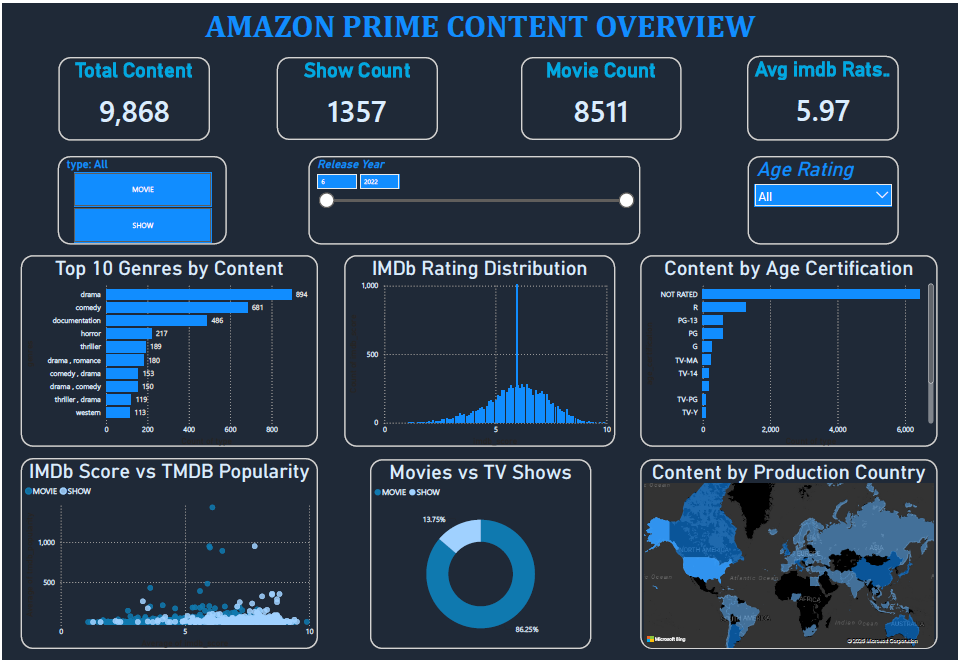

What the dashboard file says about the page in this screenshot:
{"tool":"powerbi","page":{"name":"Content Overview","canvas":[1600,1100],"ordinal":0},"visuals":[{"type":"textbox","box":[33.3,0,1535.6,88.9],"z":0},{"type":"cardVisual","title":"Movie Count","fields":{"Data":["CountNonNull(Tittles.type)"]},"box":[868.8,89.8,269.4,139.2],"z":1000},{"type":"cardVisual","title":"Total Content ","fields":{"Data":["Tittles.Total-Content"]},"box":[94,90,254,140],"z":2000},{"type":"cardVisual","title":"Show Count","fields":{"Data":["CountNonNull(Tittles.type)"]},"box":[460.2,89.8,269.4,139.2],"z":3000},{"type":"cardVisual","title":"Avg imdb Rats..","fields":{"Data":["Avg(Tittles.imdb_score)"]},"box":[1248,88,254,142],"z":4000},{"type":"barChart","title":"Top 10 Genres by Content","fields":{"Category":["Tittles.genres"],"Y":["CountNonNull(Tittles.type)"]},"box":[31.1,422.2,497.9,321.3],"z":5000},{"type":"donutChart","title":"Movies vs TV Shows","fields":{"Category":["Tittles.type"],"Y":["CountNonNull(Tittles.type)"]},"box":[615.6,764.4,371.1,317.8],"z":6000},{"type":"barChart","title":"Content by Age Certification","fields":{"Category":["Tittles.age_certification"],"Y":["CountNonNull(Tittles.type)"]},"box":[1068.9,422.2,498,321],"z":7000},{"type":"scatterChart","title":"IMDb Score vs TMDB Popularity","fields":{"Category":["Tittles.title"],"Series":["Tittles.type"],"X":["Avg(Tittles.imdb_score)"],"Y":["Tittles.tmdb_popularity"]},"box":[31.1,762.2,497.8,320],"z":8000},{"type":"lineClusteredColumnComboChart","title":"IMDb Rating Distribution","fields":{"Category":["Tittles.imdb_score"],"Y":["CountNonNull(Tittles.imdb_score)"]},"box":[573.3,422.2,453.6,320.6],"z":9000},{"type":"filledMap","title":"Content by Production Country","fields":{"Category":["Tittles.production_countries"]},"box":[1068.9,764.4,497.8,317.8],"z":10000},{"type":"slicer","fields":{"Values":["Tittles.type"]},"box":[93.3,255.6,282.2,148.9],"z":11000},{"type":"slicer","fields":{"Values":["Tittles.release_year"]},"box":[513.3,255.6,555.6,148.9],"z":12000},{"type":"slicer","fields":{"Values":["Tittles.age_certification"]},"box":[1248.9,255.6,253.3,148.9],"z":13000}]}

Visuals, with their boxes in screenshot pixels (x1, y1, x2, y2), scaled from the page's 1600x1100 canvas onto the 960x661 screenshot:
textbox: box(20, 0, 941, 53)
"Movie Count" cardVisual: box(521, 54, 683, 138)
"Total Content " cardVisual: box(56, 54, 209, 138)
"Show Count" cardVisual: box(276, 54, 438, 138)
"Avg imdb Rats.." cardVisual: box(749, 53, 901, 138)
"Top 10 Genres by Content" barChart: box(19, 254, 317, 447)
"Movies vs TV Shows" donutChart: box(369, 459, 592, 650)
"Content by Age Certification" barChart: box(641, 254, 940, 447)
"IMDb Score vs TMDB Popularity" scatterChart: box(19, 458, 317, 650)
"IMDb Rating Distribution" lineClusteredColumnComboChart: box(344, 254, 616, 446)
"Content by Production Country" filledMap: box(641, 459, 940, 650)
slicer - Tittles.type: box(56, 154, 225, 243)
slicer - Tittles.release_year: box(308, 154, 641, 243)
slicer - Tittles.age_certification: box(749, 154, 901, 243)
